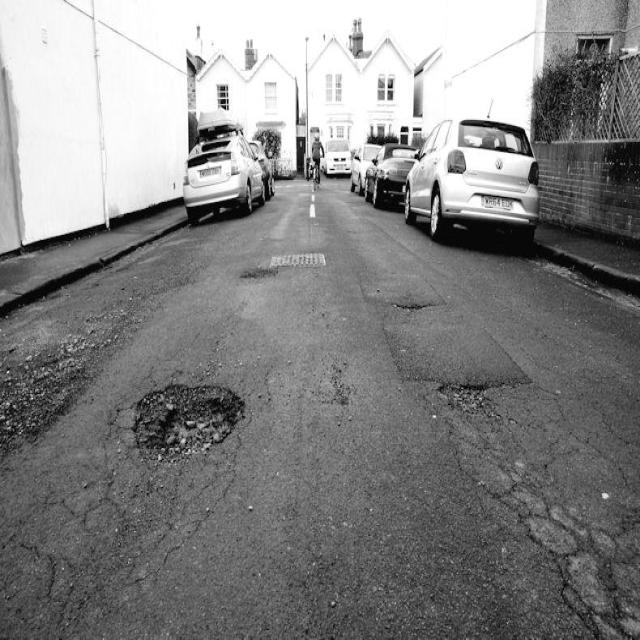pothole: (134, 376, 244, 463), (429, 377, 496, 412), (386, 296, 439, 316), (240, 264, 278, 282)
